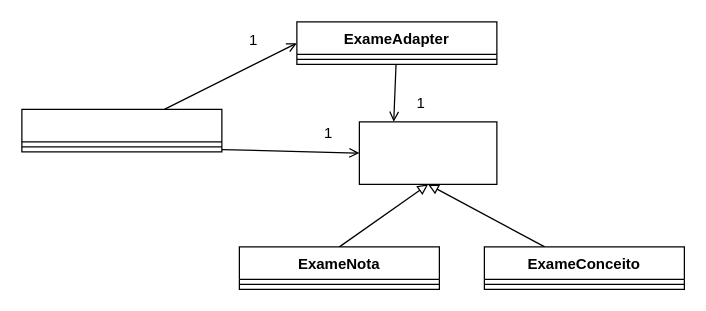
Some shapes in this 706 by 311 pixel diagram are drawn without their labels. The shapes that lost their labels are listed below. From the top down, each one's box as (x1, y1, x2, y2) in pixels, then its label:
(21, 108, 222, 152): Bailarino
(358, 121, 497, 184): «interface» IExame
